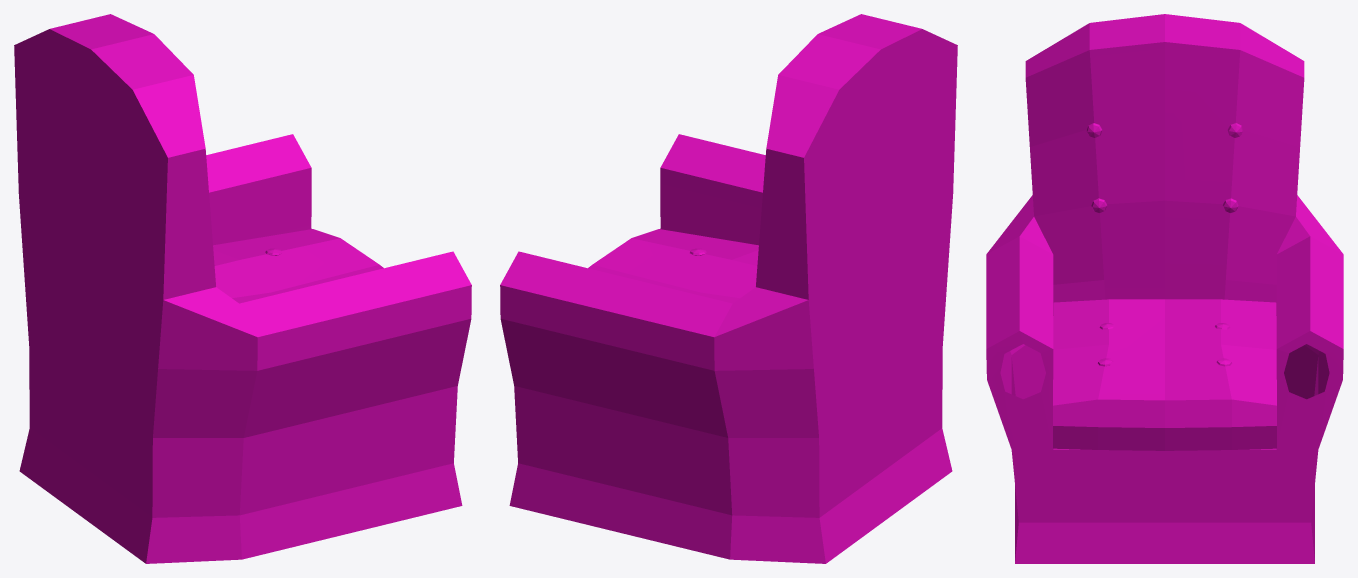
The model's file is DASchair.glb.
The picture shows the model from 3 angles, left to right: view 1: azimuth 30°, elevation 25°; view 2: azimuth 150°, elevation 25°; view 3: azimuth 270°, elevation 25°; orthographic projection. The views are drawn at different scales.
Parts seen in each view (by area): view 1: Armchair_01; view 2: Armchair_01; view 3: Armchair_01.
Part boxes in pixels (x1,y1,x2,y2): Armchair_01: (14, 14, 471, 563); Armchair_01: (500, 14, 957, 563); Armchair_01: (986, 14, 1343, 563).
Size of what is drawn, in the model's own units: 6.32 by 9.31 by 7.14.
